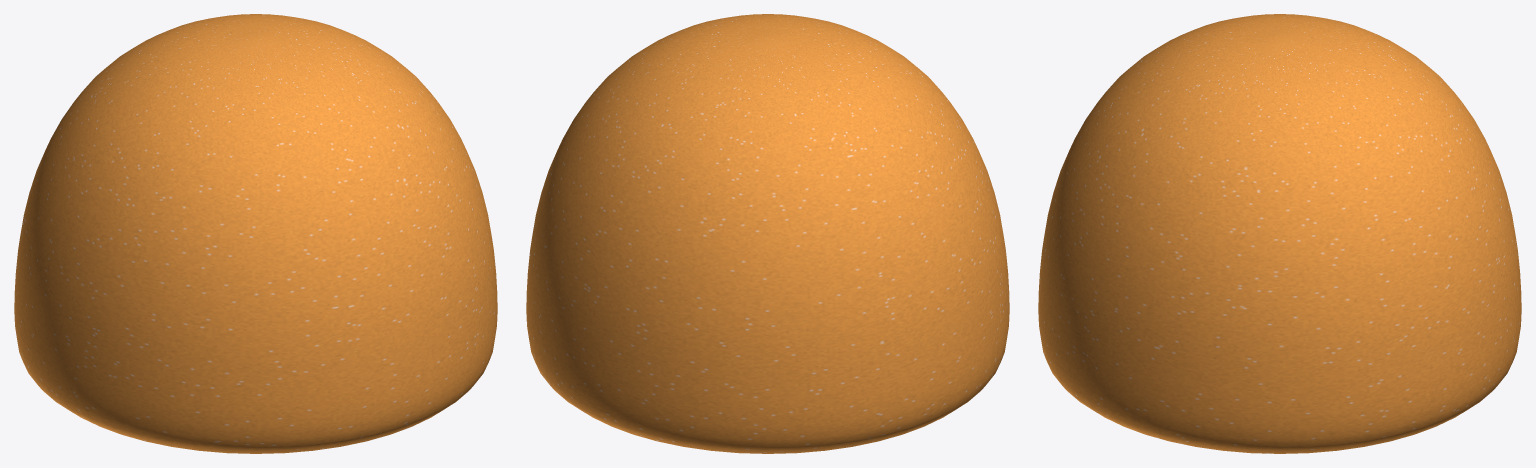
File: gumdrop_orange.glb
3 views of the same model, side by side, from view 1: azimuth 30°, elevation 25°; view 2: azimuth 150°, elevation 25°; view 3: azimuth 270°, elevation 25° (orthographic).
Visible parts, largest first — view 1: gumdrop; view 2: gumdrop; view 3: gumdrop.
Part boxes in pixels (bbox=[...]): gumdrop: bbox=[14, 14, 497, 453]; gumdrop: bbox=[526, 14, 1009, 453]; gumdrop: bbox=[1038, 14, 1521, 453].
Bounding box in the file's own units: 2 × 1.48 × 2.
1 material, 1 textured.
